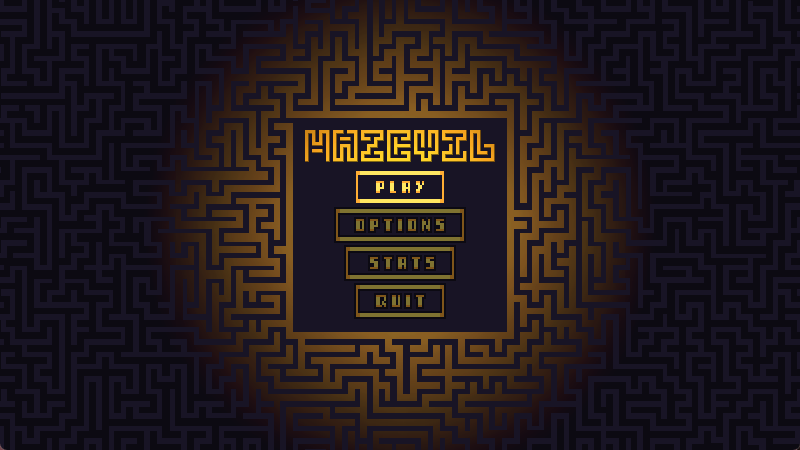start_screen: (1, 1, 800, 450)
start_screen_play: (354, 170, 445, 202)
